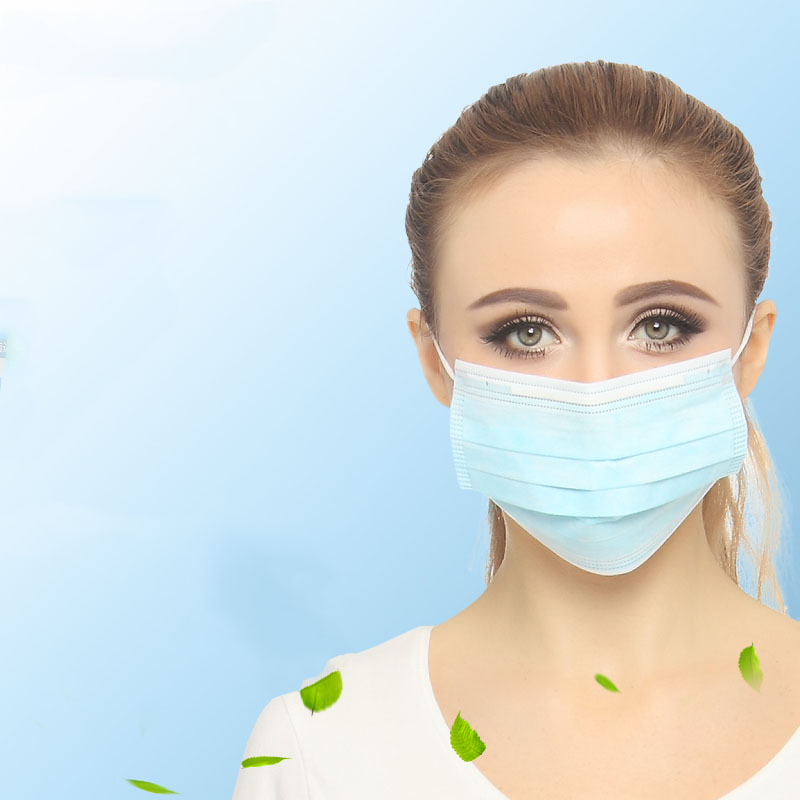face_mask: (445, 156, 742, 580)
